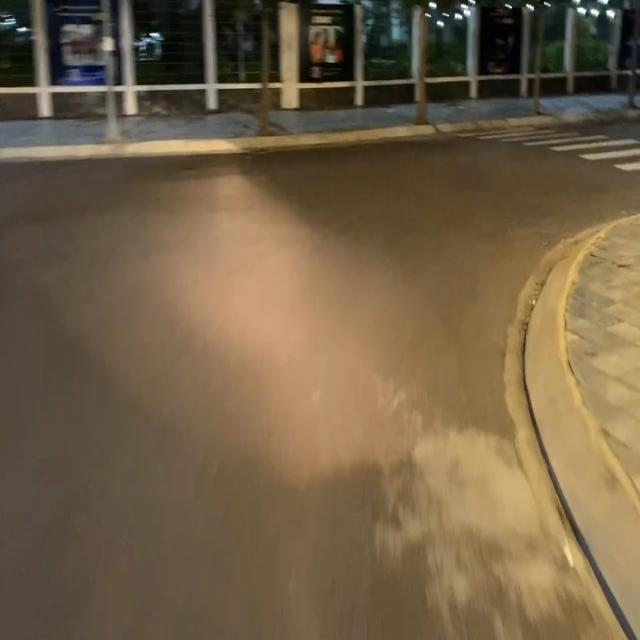walk-crossing: (466, 122, 640, 174)
